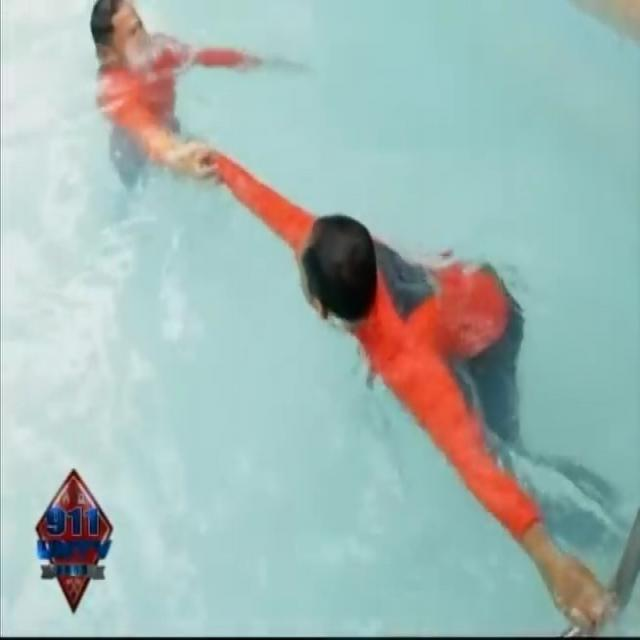drowning: (57, 0, 255, 216)
swimming: (240, 132, 634, 588)
